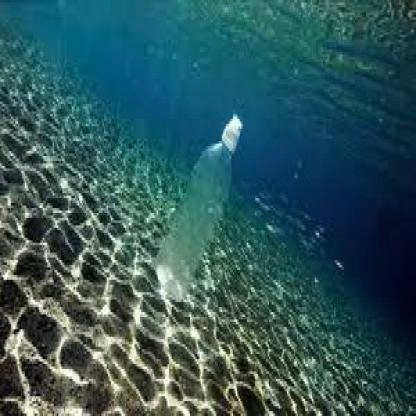pbottle: (138, 101, 252, 327)
